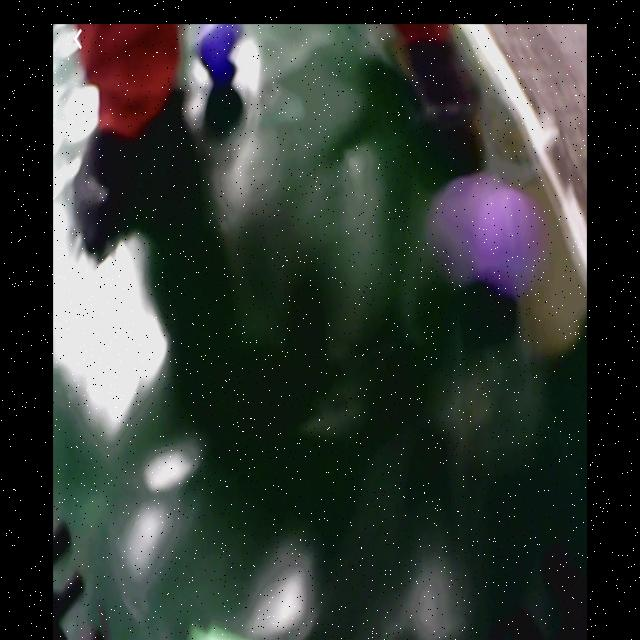ball: (476, 189, 540, 288), (202, 26, 240, 72)
